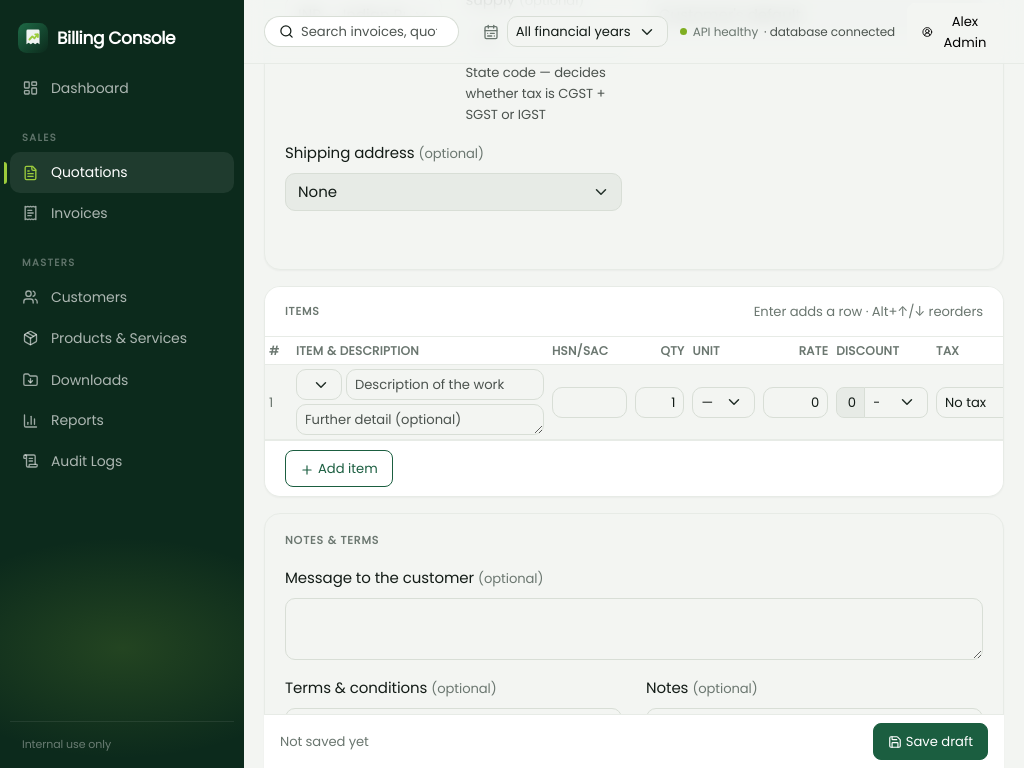
Test: the editor totals › matches the engine while typing, tax and all
(page scrolled)
Type "Website redesign" into the field named "Item name, line 1" at [445, 385], box 346,369 -> 544,400
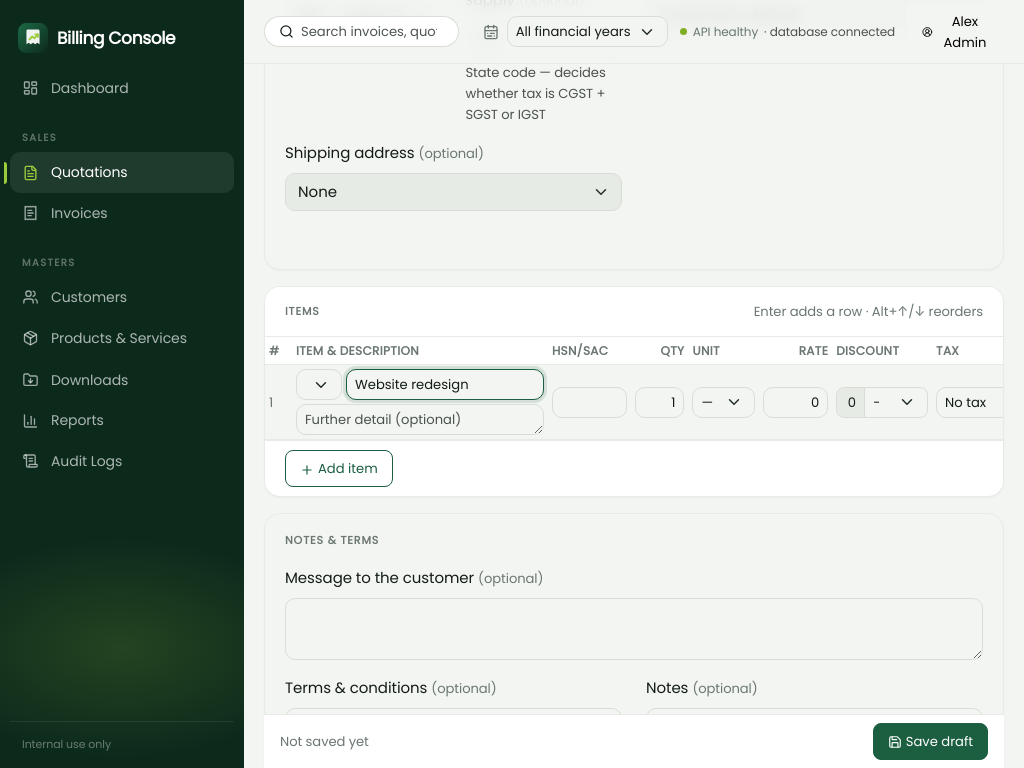
Replace the text in the field named "Quantity, line 1" with "2" at [660, 402], box 635,387 -> 684,418
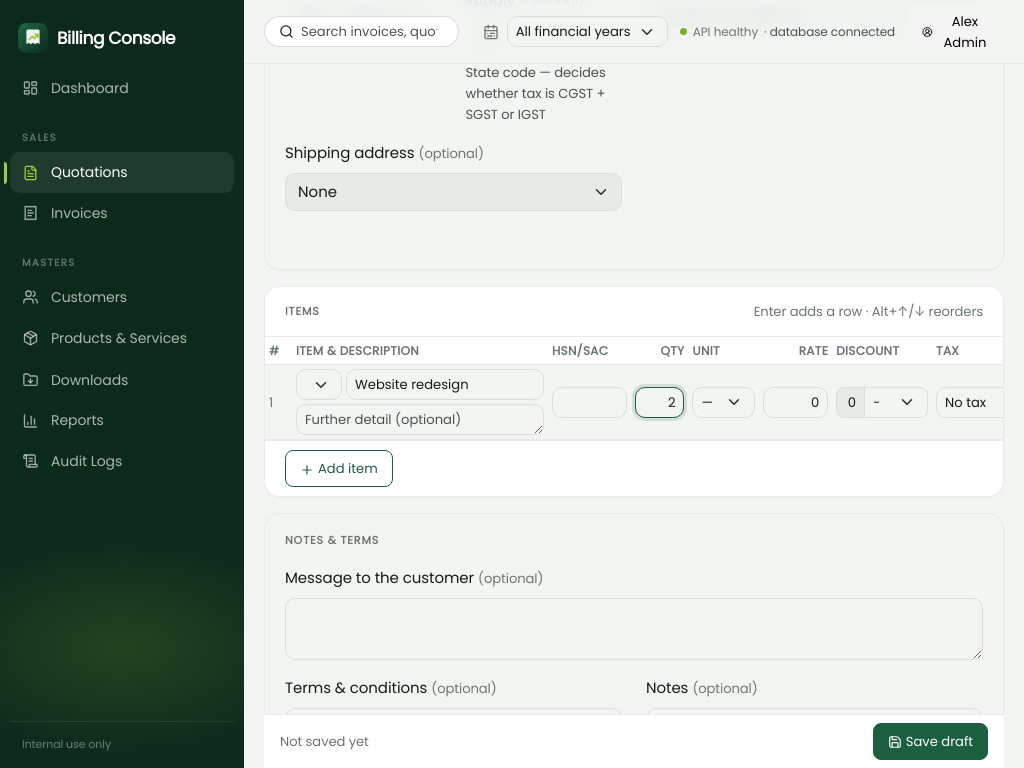
Replace the text in the field named "Rate, line 1" with "5000" at [796, 402], box 763,387 -> 828,418
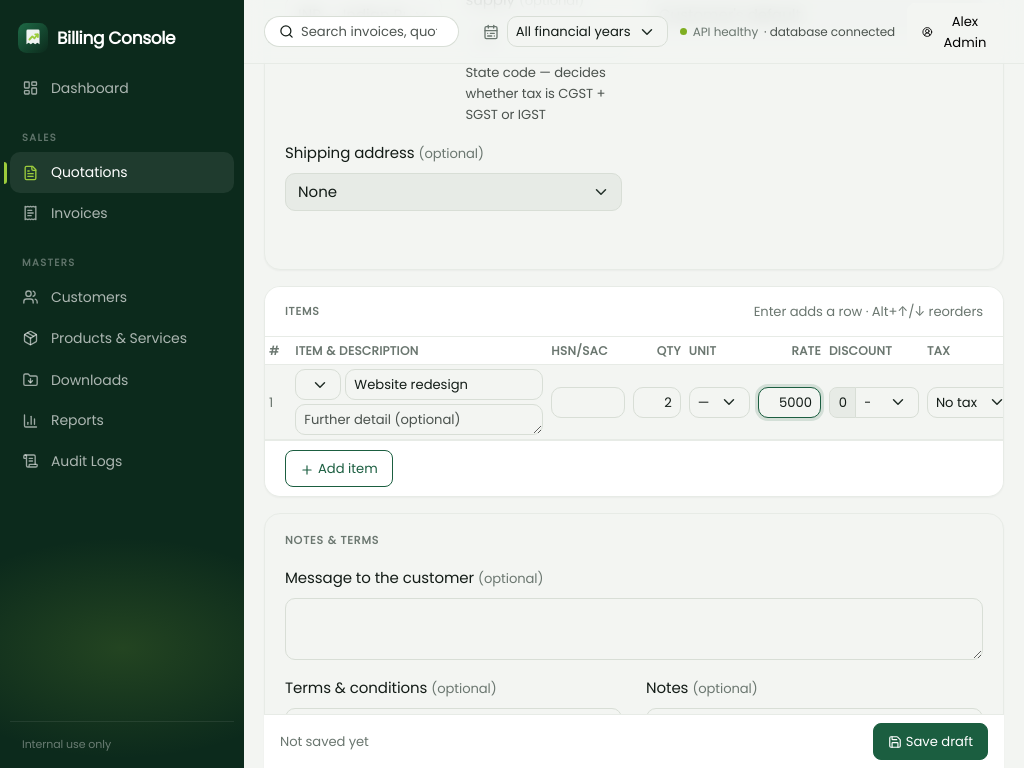
Select "GST 18%" in the dropdown named "Tax, line 1" at [972, 402], box 927,387 -> 1018,418
(page scrolled)
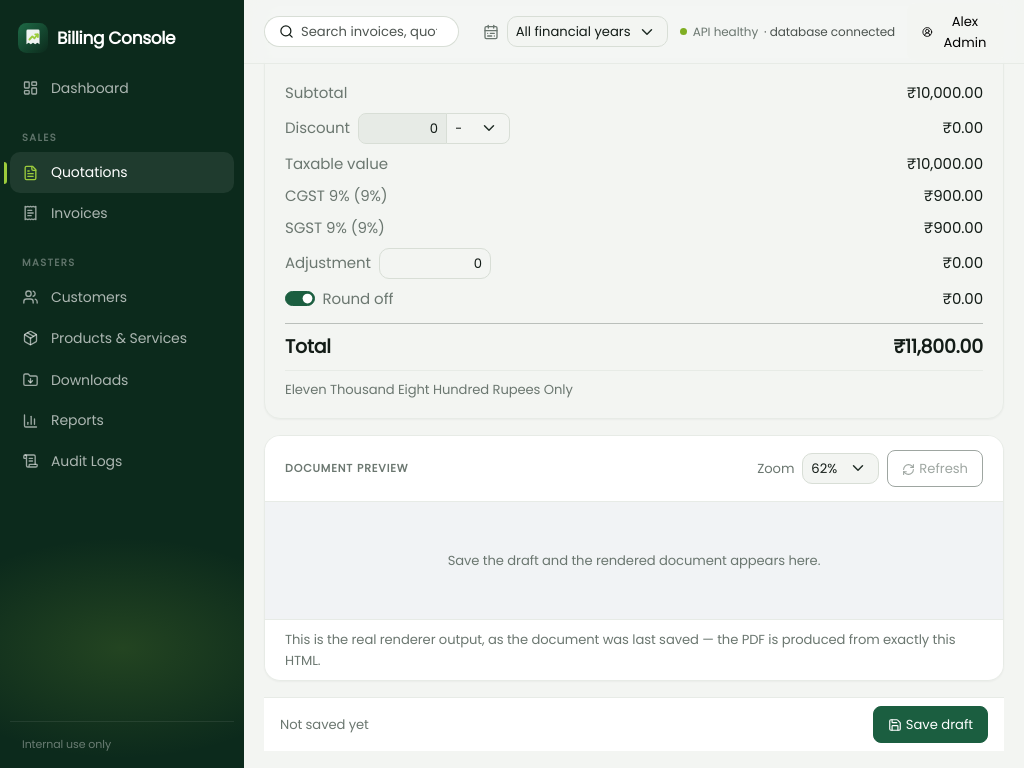
Expected: the text "₹10,000.00" is shown 2 times, 907,81 -> 983,105; 907,152 -> 983,176
Expected: the text "₹900.00" is shown 2 times, 924,184 -> 983,208; 924,216 -> 983,240
Expected: the text "₹11,800.00" is shown, 893,332 -> 983,362
